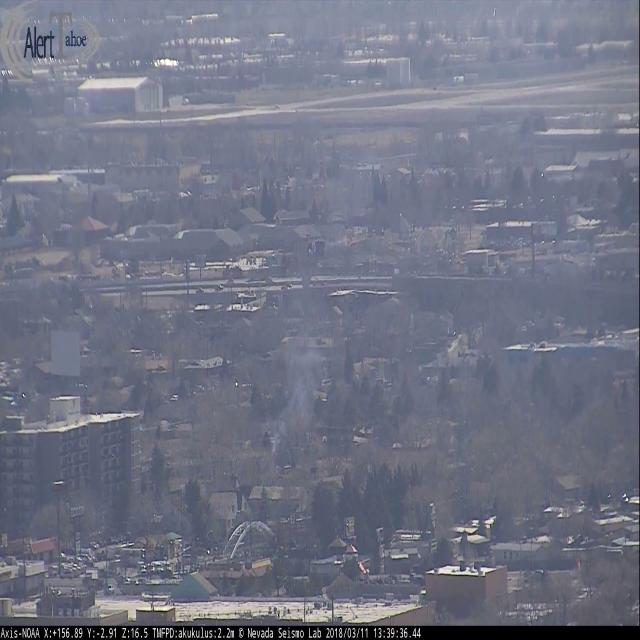smoke: (262, 244, 354, 460)
